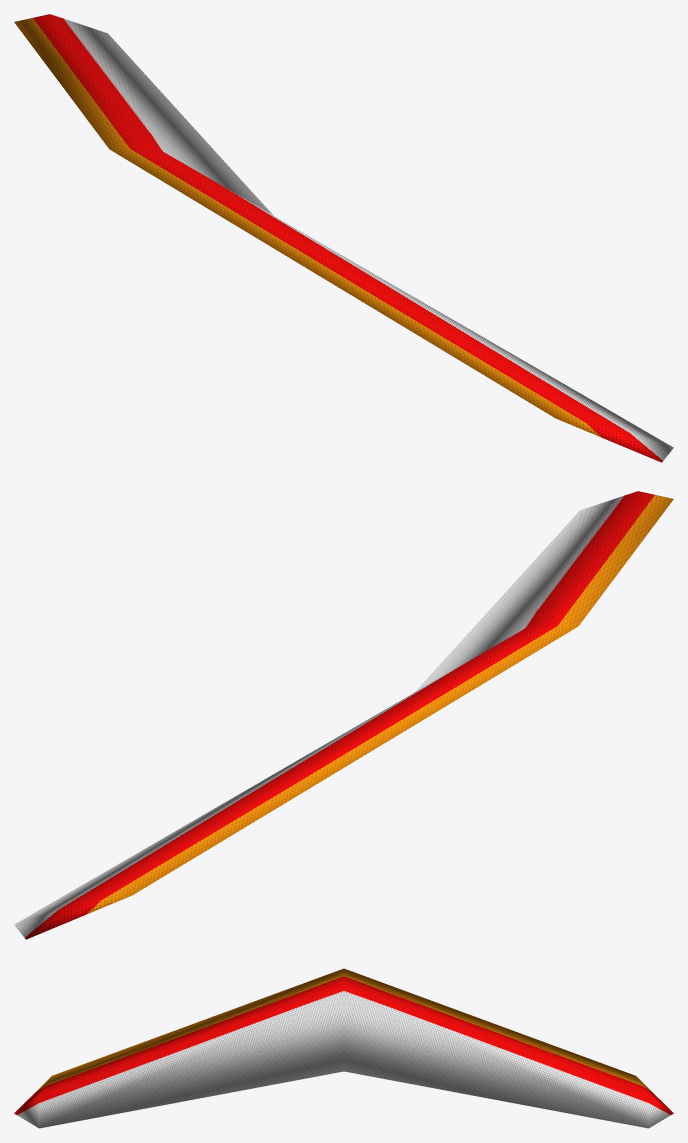
File: hang-glider-red-launch-cbj_LOD03.gltf
The picture shows the model from 3 angles, top to bottom: view 1: azimuth 30°, elevation 25°; view 2: azimuth 150°, elevation 25°; view 3: azimuth 270°, elevation 25°; orthographic projection. The views are drawn at different scales.
Visible parts, largest first — view 1: hang-glider03; view 2: hang-glider03; view 3: hang-glider03.
Part boxes in pixels (x1=…): hang-glider03: x1=14, y1=14, x2=673, y2=462; hang-glider03: x1=14, y1=491, x2=673, y2=939; hang-glider03: x1=14, y1=968, x2=673, y2=1128.
Size of what is drawn, in the model's own units: 2.67 by 1.45 by 10.05.
